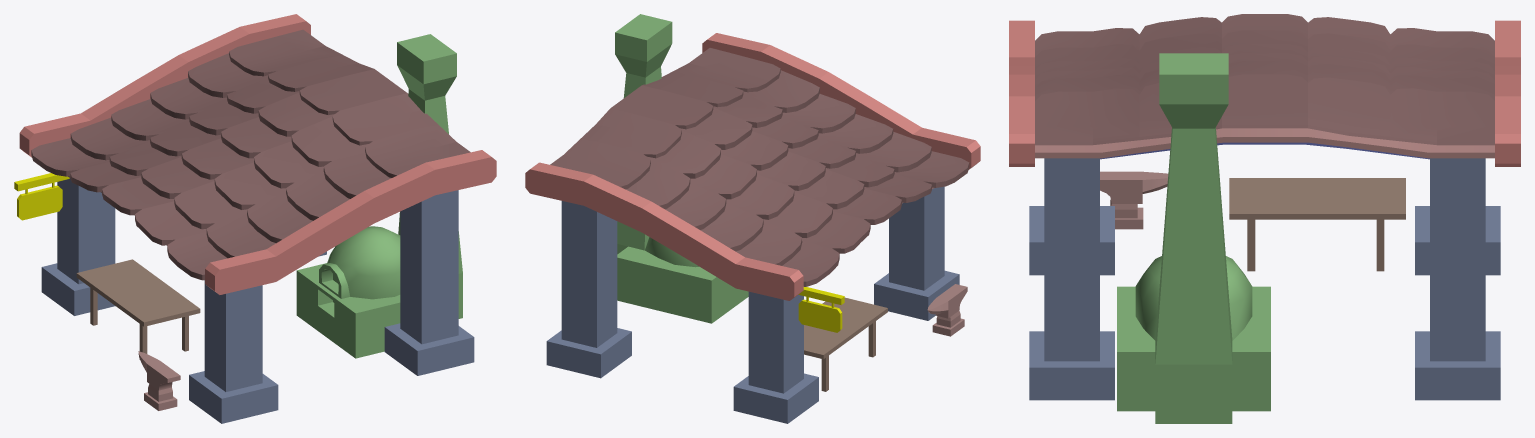
Rendered from Herreria blendshape 1.fbx.
3 views of the same model, side by side, from view 1: azimuth 30°, elevation 25°; view 2: azimuth 150°, elevation 25°; view 3: azimuth 270°, elevation 25° (orthographic). The views are drawn at different scales.
Visible parts, largest first — view 1: pCube23; view 2: pCube23; view 3: pCube23.
Boxes of the visible parts, <box> form: pCube23: <box>14,14,496,423</box>; pCube23: <box>525,14,980,423</box>; pCube23: <box>1009,14,1520,423</box>.
Size of the model in its own units: 27.05 by 20.66 by 27.65.
